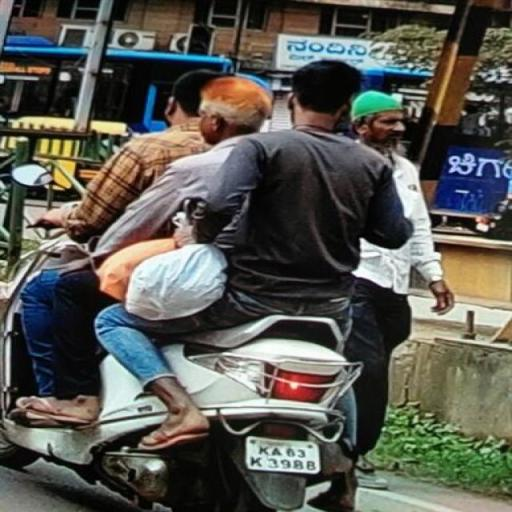tripple riding: (3, 56, 423, 328)
